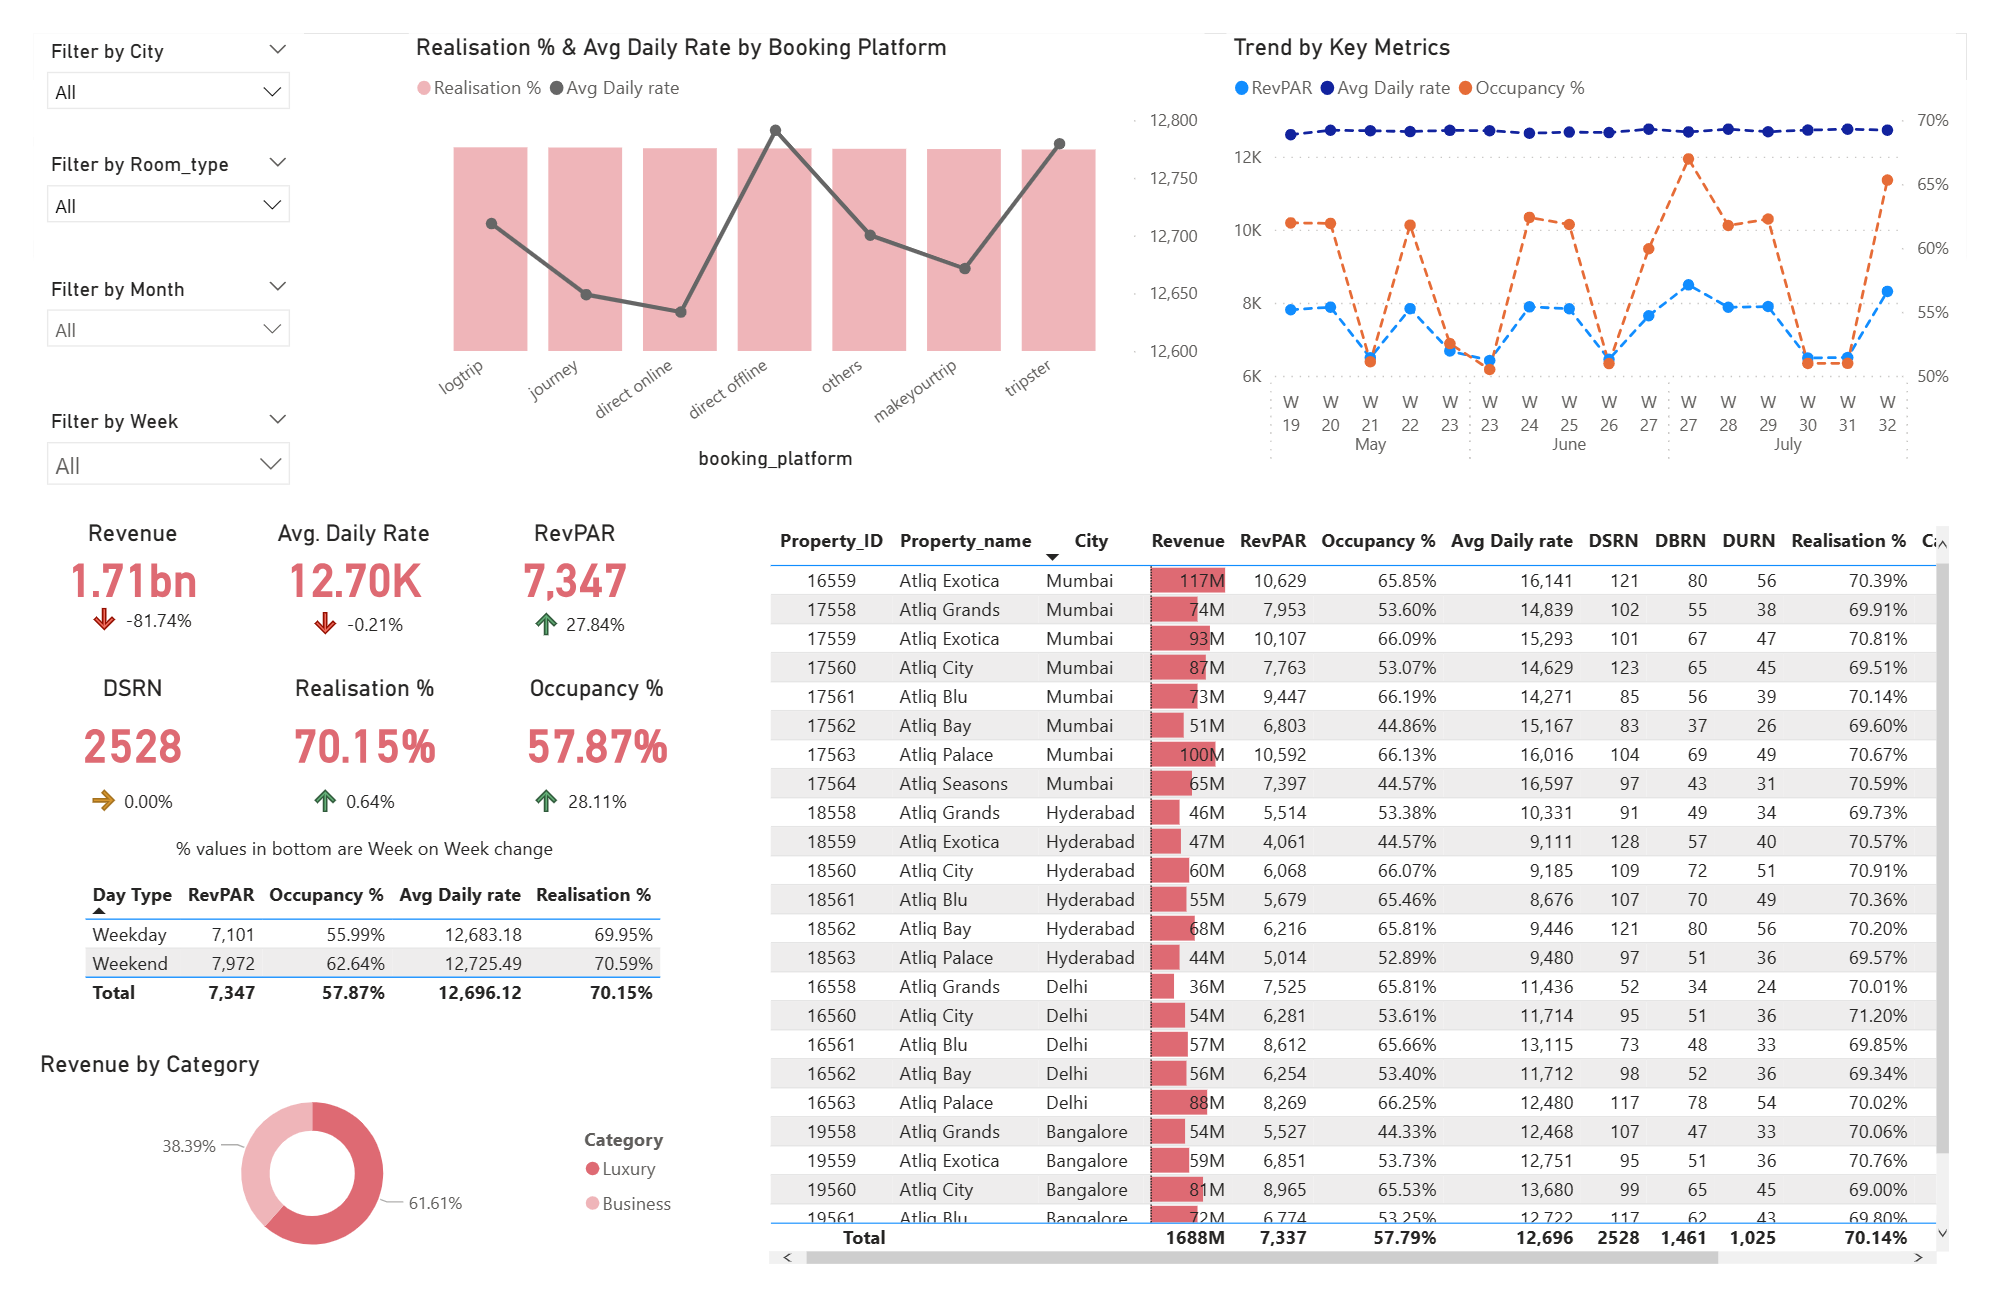

What the dashboard file says about the page in this screenshot:
{"tool":"powerbi","page":{"name":"Page 1","canvas":[1400,900],"ordinal":0},"visuals":[{"type":"tableEx","fields":{"Values":["dim_hotels.property_id","dim_hotels.property_name","dim_hotels.city","key_measures.Revenue","key_measures.RevPAR","key_measures.Occupancy %","key_measures.Avg Daily rate","key_measures.DSRN","key_measures.DBRN","key_measures.DURN","key_measures.Realisation %","key_measures.Cancellation %"]},"box":[528,352,864,544],"z":0},{"type":"slicer","fields":{"Values":["dim_hotels.City"]},"box":[0,0,196,75.5],"z":1000},{"type":"slicer","fields":{"Values":["dim_rooms.room_class"]},"box":[0,82.2,196,67.6],"z":2000},{"type":"slicer","fields":{"Values":["dim_date.week no"]},"box":[0,268.1,196,75.5],"z":3000},{"type":"slicer","fields":{"Values":["dim_date.mmm yy.Variation.Date Hierarchy.Month","dim_date.mmm yy.Variation.Date Hierarchy.Day"]},"box":[0,172.3,196,83.4],"z":4000},{"type":"tableEx","fields":{"Values":["key_measures.Revenue WoW change %"]},"box":[32,384,112,64],"z":5000},{"type":"card","title":"Revenue","fields":{"Values":["key_measures.Revenue"]},"box":[0,352,144,64],"z":6000},{"type":"donutChart","fields":{"Category":["dim_hotels.Category"],"Y":["key_measures.Revenue"]},"box":[0,736,480,160],"z":7000},{"type":"lineChart","title":"Trend by Key Metrics","fields":{"Category":["dim_date.mmm yy.Variation.Date Hierarchy.Month","dim_date.week no"],"Y":["key_measures.RevPAR","key_measures.Avg Daily rate"],"Y2":["key_measures.Occupancy %"]},"box":[864,0,528,320],"z":8000},{"type":"lineStackedColumnComboChart","title":"Realisation % & Avg Daily Rate by Booking Platform","fields":{"Y2":["key_measures.Avg Daily rate"],"Y":["key_measures.Realisation %"],"Category":["fact_bookings.booking_platform"]},"box":[272,0,576,320],"z":9000},{"type":"tableEx","fields":{"Values":["key_measures.RevPAR WoW change %"]},"box":[352,384,96,64],"z":10000},{"type":"card","title":"RevPAR","fields":{"Values":["key_measures.RevPAR"]},"box":[304,352,176,64],"z":11000},{"type":"tableEx","fields":{"Values":["key_measures.DSRN WoW change %"]},"box":[32,512,80,64],"z":12000},{"type":"card","title":"DSRN","fields":{"Values":["key_measures.DSRN"]},"box":[0,464,144,80],"z":13000},{"type":"tableEx","fields":{"Values":["key_measures.Occupancy WoW change %"]},"box":[352,512,96,64],"z":14000},{"type":"card","title":"Occupancy %","fields":{"Values":["key_measures.Occupancy %"]},"box":[336,464,144,80],"z":15000},{"type":"tableEx","fields":{"Values":["key_measures.ADR WoW change %"]},"box":[192,384,112,64],"z":16000},{"type":"card","title":"Avg. Daily Rate","fields":{"Values":["key_measures.Avg Daily rate"]},"box":[144,352,176,64],"z":17000},{"type":"tableEx","fields":{"Values":["key_measures.Realisation WoW change %"]},"box":[192,512,96,80],"z":18000},{"type":"card","title":"Realisation %","fields":{"Values":["key_measures.Realisation %"]},"box":[160,464,160,80],"z":19000},{"type":"textbox","box":[48,576,384,32],"z":20000},{"type":"tableEx","fields":{"Values":["dim_date.day_type","key_measures.RevPAR","key_measures.Occupancy %","key_measures.Avg Daily rate","key_measures.Realisation %"]},"box":[32,608,448,112],"z":21000}]}

Visuals, with their boxes in screenshot pixels (x1, y1, x2, y2), scaled from the page's 1400x900 canvas onto the 2000x1309 screenshot:
tableEx - dim_hotels.property_id x dim_hotels.property_name: (x1=754, y1=512, x2=1989, y2=1303)
slicer - dim_hotels.City: (x1=0, y1=0, x2=280, y2=110)
slicer - dim_rooms.room_class: (x1=0, y1=120, x2=280, y2=218)
slicer - dim_date.week no: (x1=0, y1=390, x2=280, y2=500)
slicer - dim_date.mmm yy.Variation.Date Hierarchy.Month x dim_date.mmm yy.Variation.Date Hierarchy.Day: (x1=0, y1=251, x2=280, y2=372)
tableEx - key_measures.Revenue WoW change %: (x1=46, y1=559, x2=206, y2=652)
"Revenue" card: (x1=0, y1=512, x2=206, y2=605)
donutChart - dim_hotels.Category x key_measures.Revenue: (x1=0, y1=1070, x2=686, y2=1303)
"Trend by Key Metrics" lineChart: (x1=1234, y1=0, x2=1989, y2=465)
"Realisation % & Avg Daily Rate by Booking Platform" lineStackedColumnComboChart: (x1=389, y1=0, x2=1211, y2=465)
tableEx - key_measures.RevPAR WoW change %: (x1=503, y1=559, x2=640, y2=652)
"RevPAR" card: (x1=434, y1=512, x2=686, y2=605)
tableEx - key_measures.DSRN WoW change %: (x1=46, y1=745, x2=160, y2=838)
"DSRN" card: (x1=0, y1=675, x2=206, y2=791)
tableEx - key_measures.Occupancy WoW change %: (x1=503, y1=745, x2=640, y2=838)
"Occupancy %" card: (x1=480, y1=675, x2=686, y2=791)
tableEx - key_measures.ADR WoW change %: (x1=274, y1=559, x2=434, y2=652)
"Avg. Daily Rate" card: (x1=206, y1=512, x2=457, y2=605)
tableEx - key_measures.Realisation WoW change %: (x1=274, y1=745, x2=411, y2=861)
"Realisation %" card: (x1=229, y1=675, x2=457, y2=791)
textbox: (x1=69, y1=838, x2=617, y2=884)
tableEx - dim_date.day_type x key_measures.RevPAR: (x1=46, y1=884, x2=686, y2=1047)
